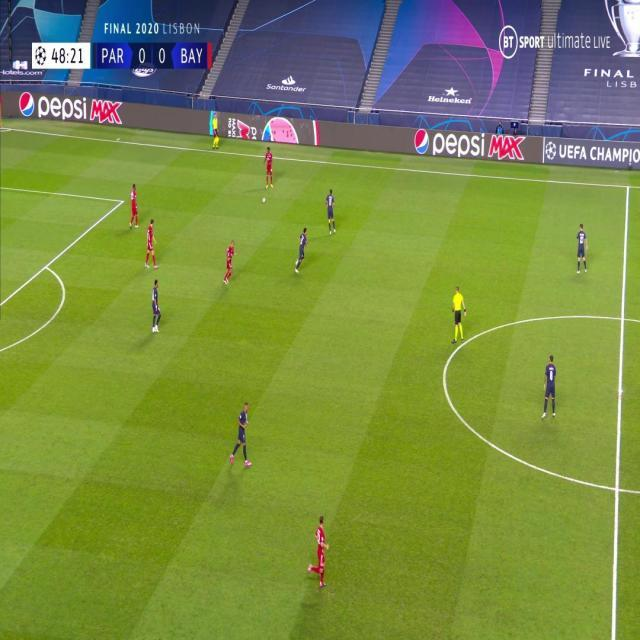ball: (262, 196, 266, 204)
player: (228, 400, 253, 469), (307, 514, 330, 589), (541, 352, 558, 420), (143, 217, 159, 271), (150, 277, 163, 335), (222, 238, 237, 287), (294, 225, 309, 273), (575, 221, 588, 275), (324, 187, 337, 236), (127, 182, 140, 230), (263, 146, 275, 190)
referee: (448, 283, 465, 346), (209, 110, 221, 151)
